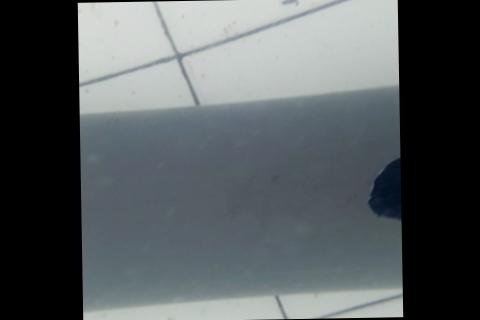kebocoran: (364, 153, 401, 223)
